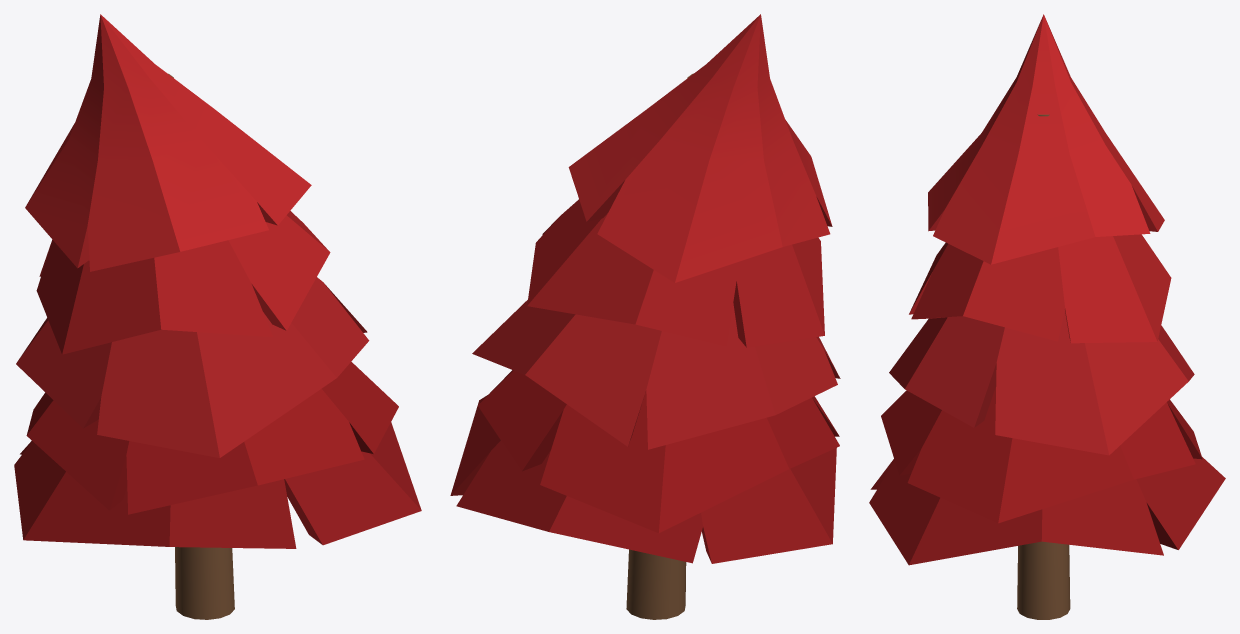
File: Spruce_Red_Thick_2.fbx
The picture shows the model from 3 angles, left to right: view 1: azimuth 30°, elevation 25°; view 2: azimuth 150°, elevation 25°; view 3: azimuth 270°, elevation 25°; orthographic projection. The views are drawn at different scales.
Parts seen in each view (by area): view 1: Cylinder.489, Cylinder.488, Cylinder.485, Cylinder.487, Cylinder.486, Cylinder.484; view 2: Cylinder.489, Cylinder.488, Cylinder.486, Cylinder.487, Cylinder.485, Cylinder.484; view 3: Cylinder.489, Cylinder.488, Cylinder.486, Cylinder.487, Cylinder.485, Cylinder.484.
Part boxes in pixels (x1,y1,x2,y2): Cylinder.489: (25, 14, 311, 271); Cylinder.488: (16, 277, 369, 457); Cylinder.485: (14, 422, 421, 548); Cylinder.487: (36, 211, 330, 354); Cylinder.486: (26, 361, 398, 514); Cylinder.484: (168, 73, 234, 619); Cylinder.489: (568, 14, 832, 282); Cylinder.488: (472, 300, 840, 449); Cylinder.486: (478, 370, 839, 533); Cylinder.487: (527, 199, 824, 347); Cylinder.485: (450, 394, 836, 563); Cylinder.484: (626, 73, 693, 619); Cylinder.489: (928, 14, 1164, 264); Cylinder.488: (889, 310, 1194, 455); Cylinder.486: (881, 386, 1202, 523); Cylinder.487: (909, 234, 1171, 343); Cylinder.485: (869, 457, 1225, 565); Cylinder.484: (1017, 114, 1070, 619).
Bounding box in the file's own units: 343 × 568 × 334.
